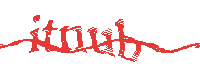b: (116, 16, 141, 62)
i: (30, 13, 39, 54)
n: (61, 23, 86, 54)
t: (42, 19, 56, 55)
u: (87, 23, 117, 58)
